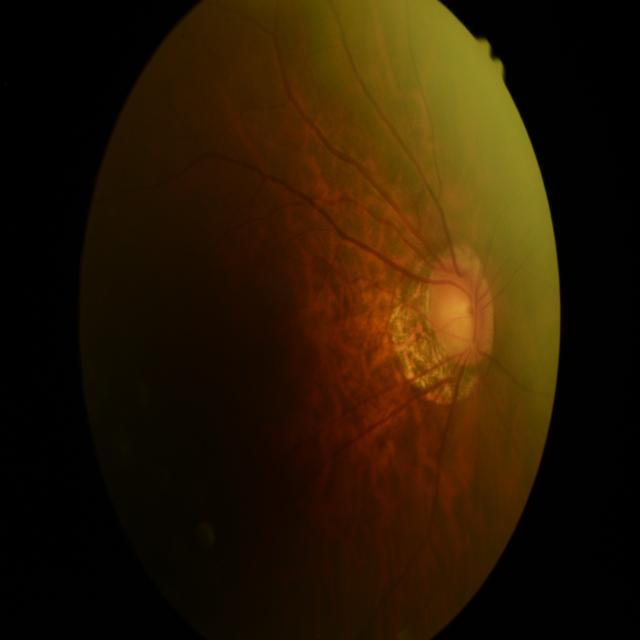cup: (434, 282, 479, 352)
disk: (426, 258, 496, 366)
